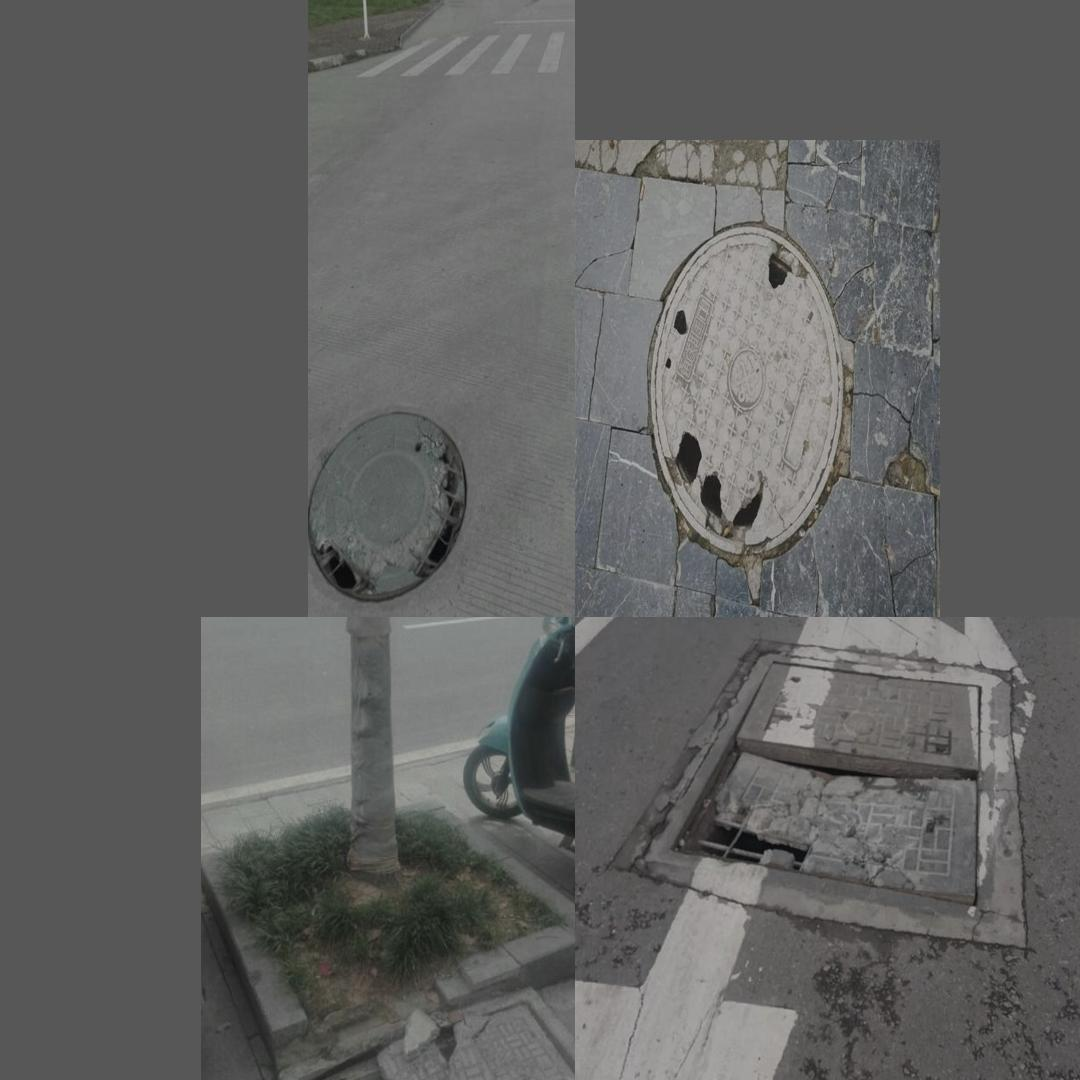broke: (631, 652, 1019, 943), (650, 226, 843, 556), (309, 413, 467, 603), (300, 999, 574, 1080)
